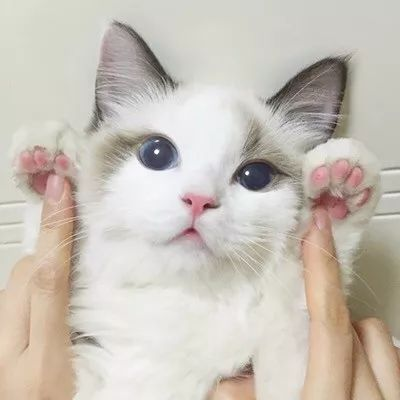cat: (81, 28, 348, 289)
